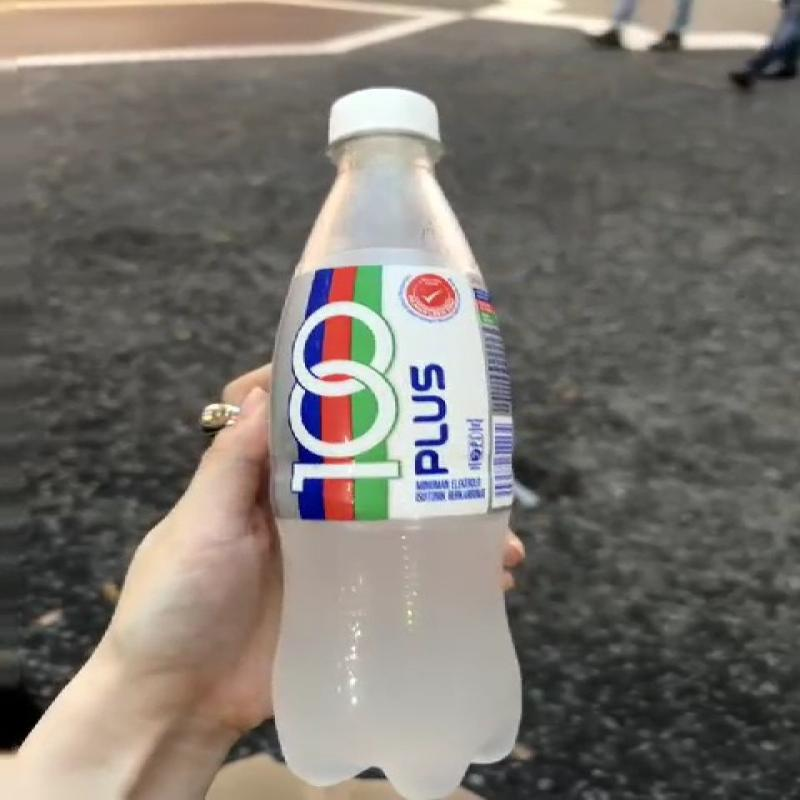botella: (268, 78, 529, 800)
